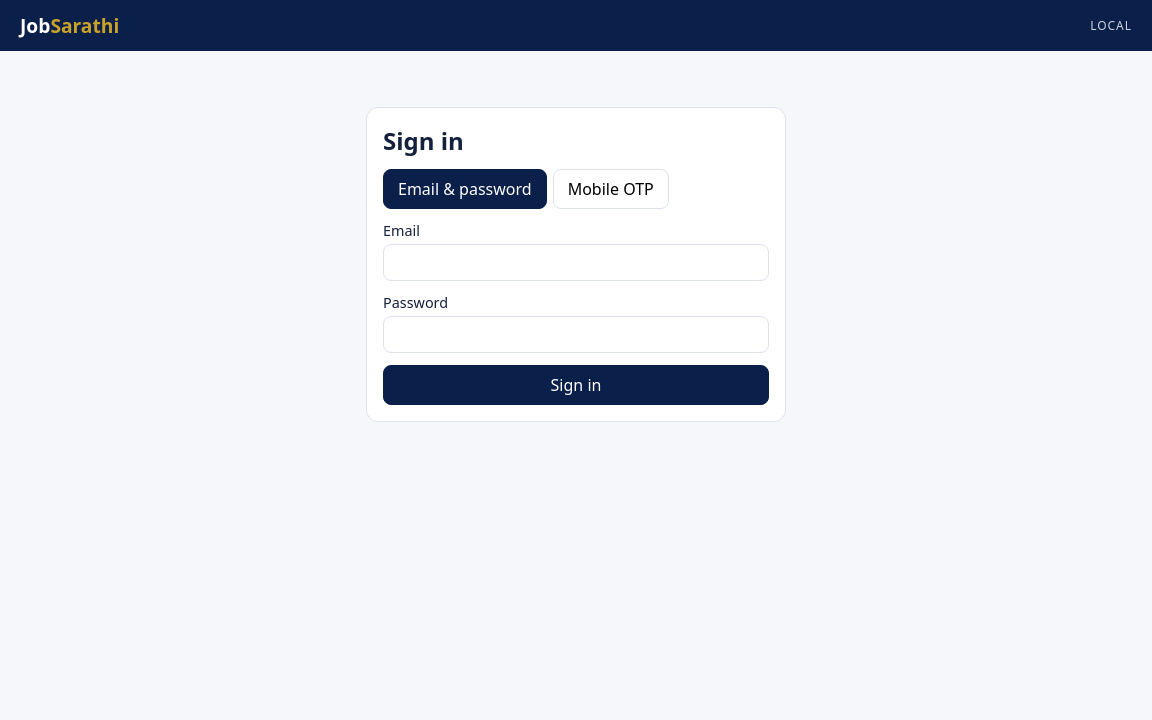
Test: sign-in › signs in with a temporary password, forces a change, then shows permitted areas only
This screenshot has width=1152, height=720.
Type "asha@example.test" into the field labelled "Email".
click(576, 262); type("asha@example.test")  # box x1=383 y1=244 x2=769 y2=281
Type "Temp-pass-1234" into the password field labelled "Password".
click(576, 334); type("Temp-pass-1234")  # box x1=383 y1=316 x2=769 y2=353
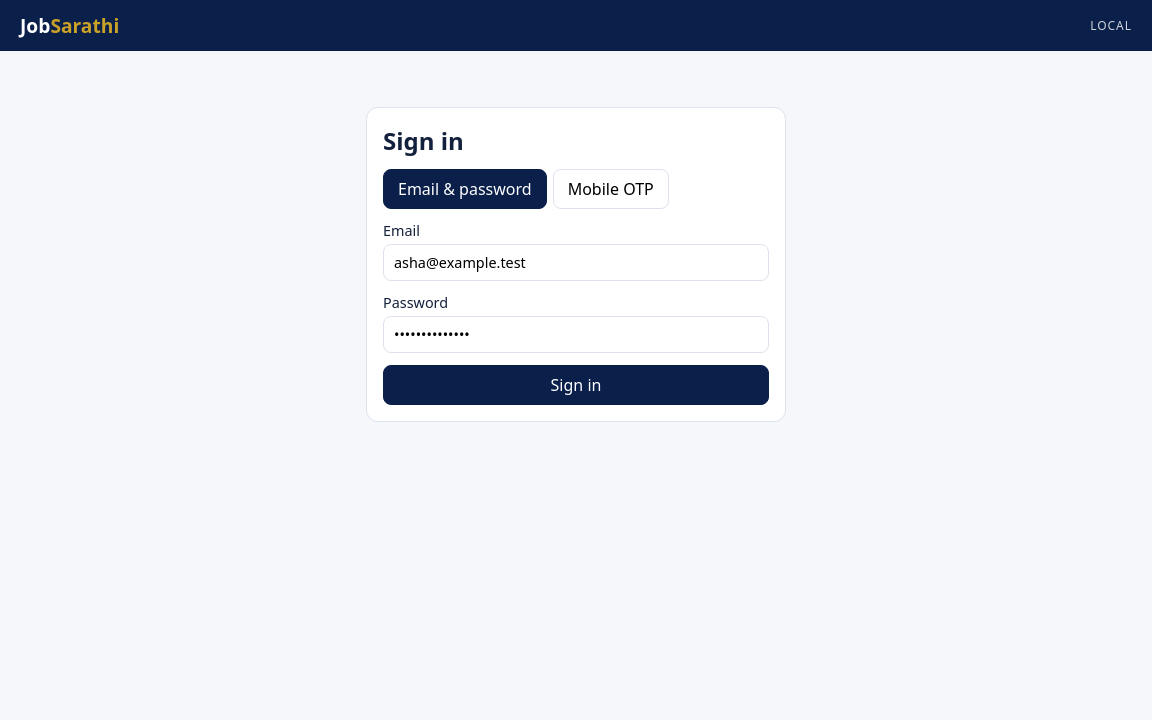
Click the button "Sign in".
click(576, 385)  # box x1=383 y1=365 x2=769 y2=405
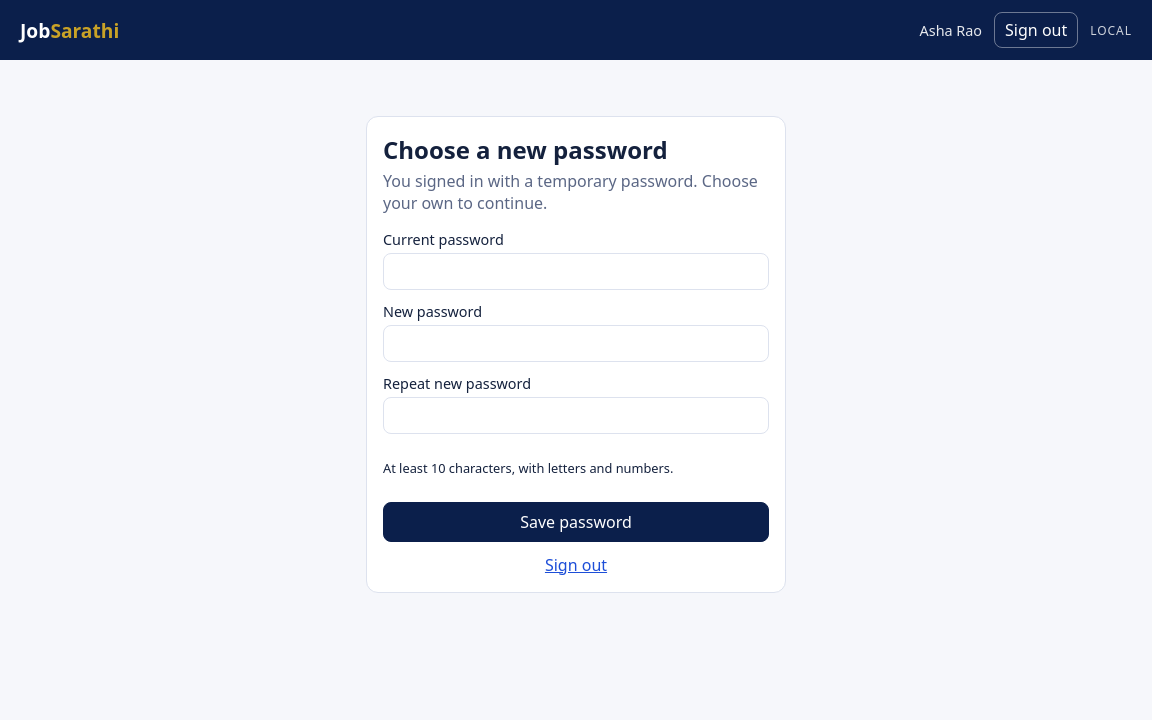
Expected: the heading "Choose a new password" is shown, x1=383 y1=133 x2=668 y2=166
Type "Temp-pass-1234" into the password field labelled "Current password".
click(576, 272); type("Temp-pass-1234")  # box x1=383 y1=253 x2=769 y2=290
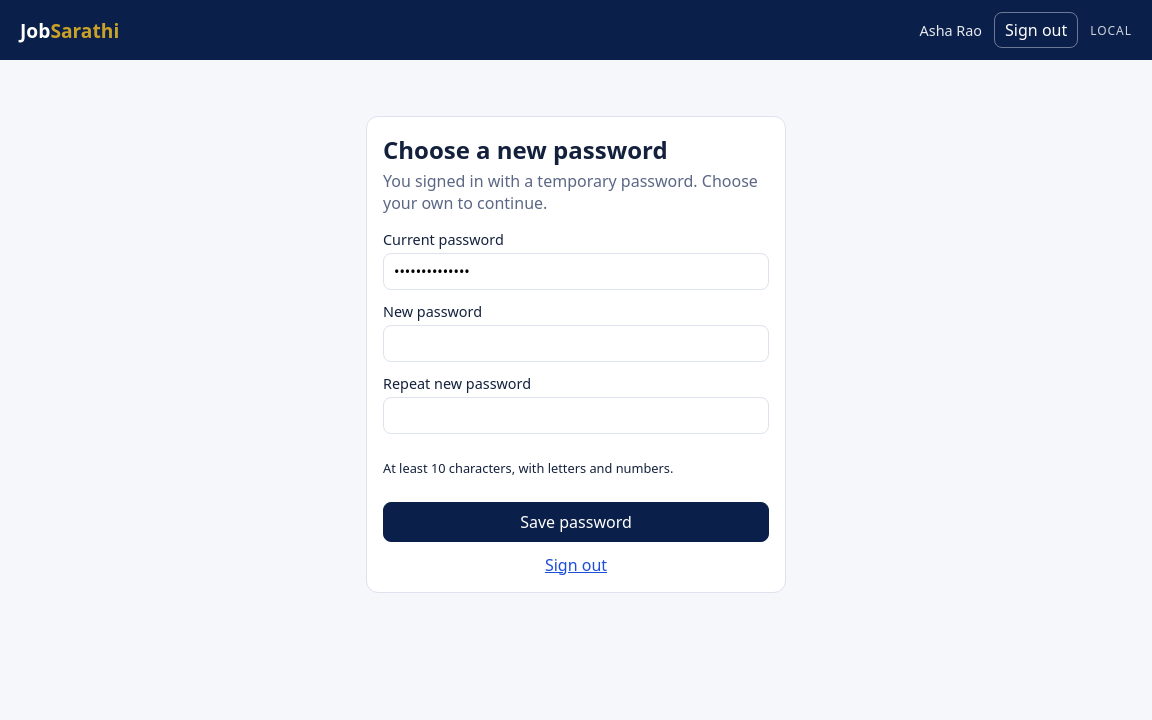
Type "Mine-2026-pass" into the password field labelled "New password".
click(576, 344); type("Mine-2026-pass")  # box x1=383 y1=325 x2=769 y2=362
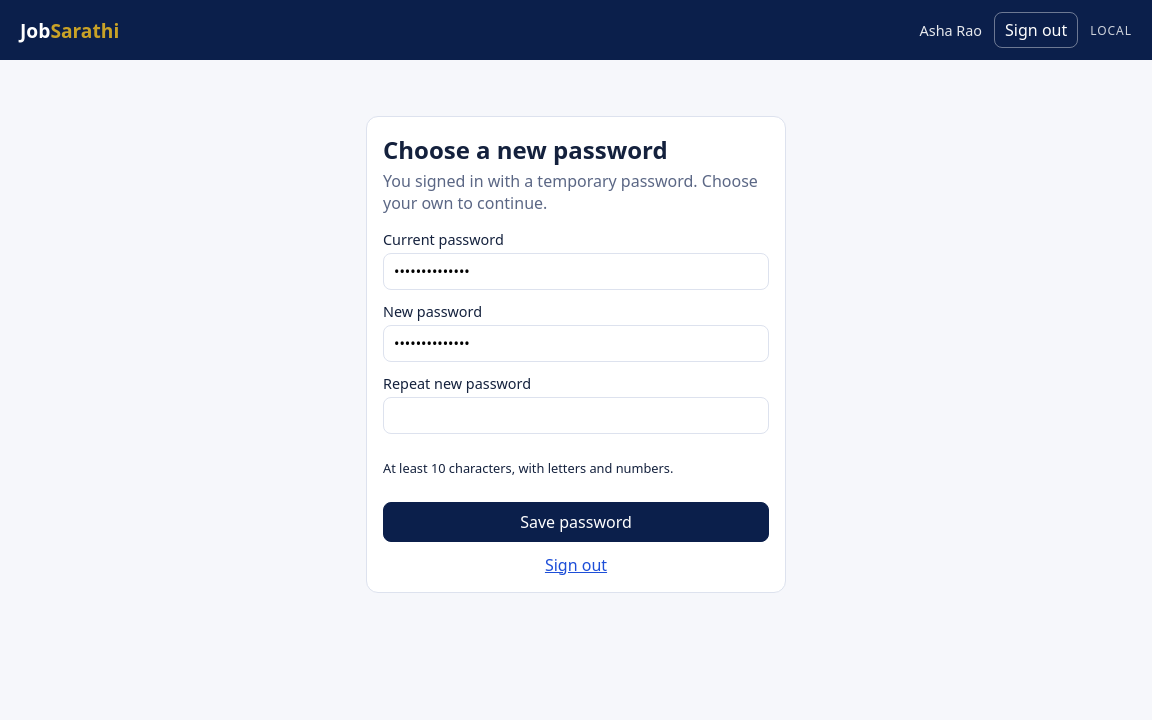
Type "Mine-2026-pass" into the password field labelled "Repeat new password".
click(576, 416); type("Mine-2026-pass")  # box x1=383 y1=397 x2=769 y2=434
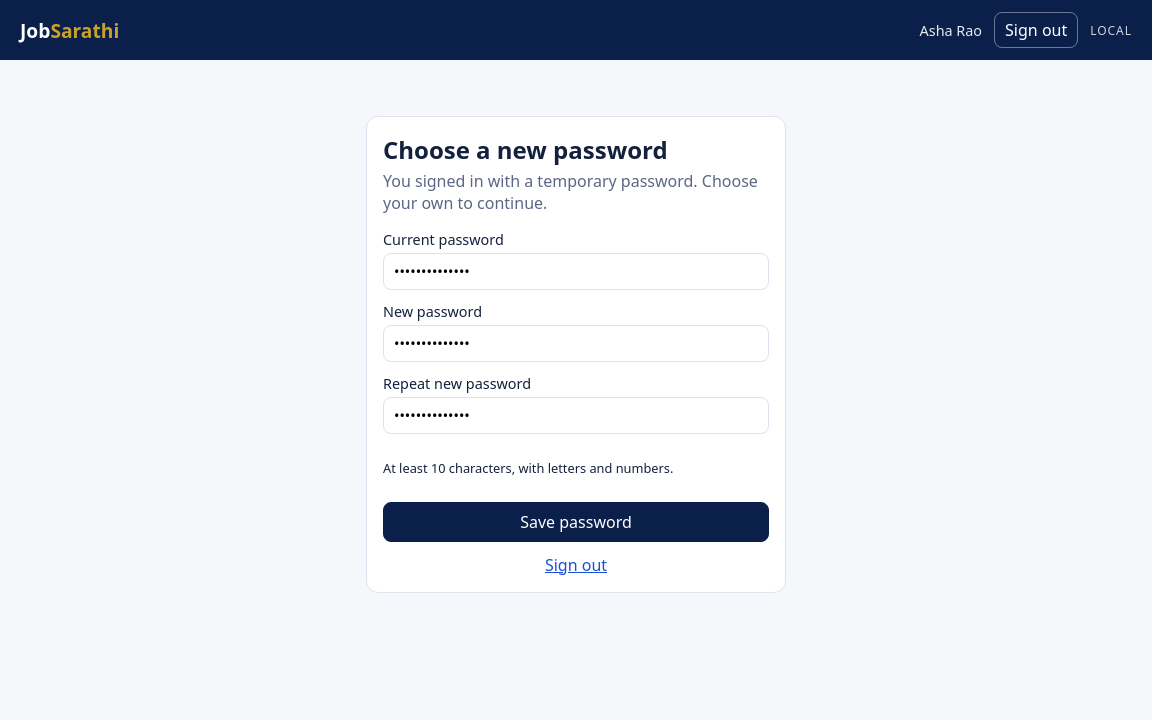
Click the button "Save password".
click(576, 522)  # box x1=383 y1=502 x2=769 y2=542
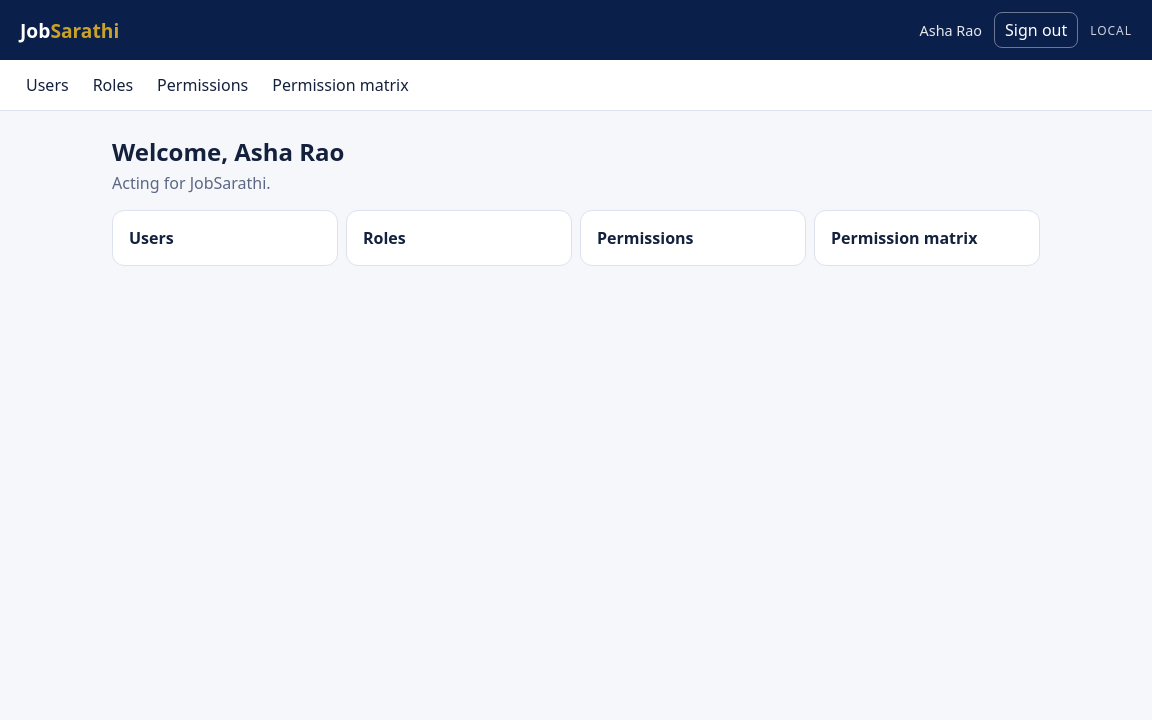
Expected: the heading "Welcome, Asha Rao" is shown, x1=112 y1=135 x2=344 y2=168
Expected: the navigation bar named "Administration" shows "Users", x1=16 y1=68 x2=79 y2=102
Expected: the navigation bar named "Administration" shows "Permission matrix", x1=262 y1=68 x2=419 y2=102
